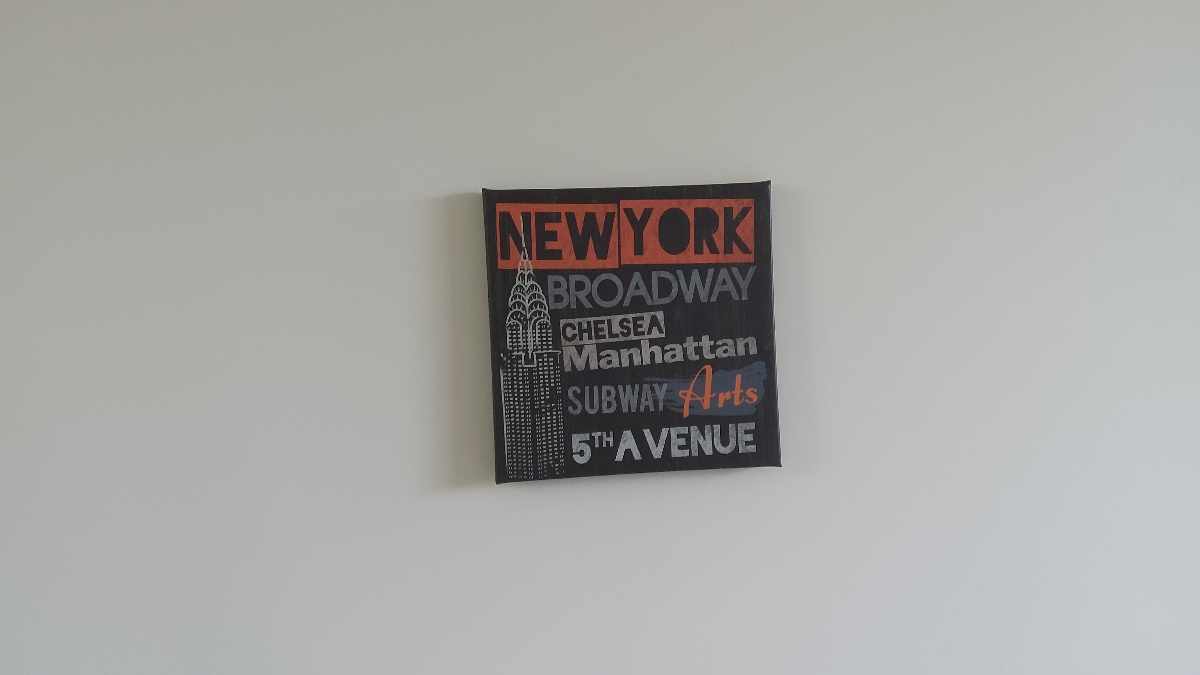poster: (473, 180, 780, 490)
